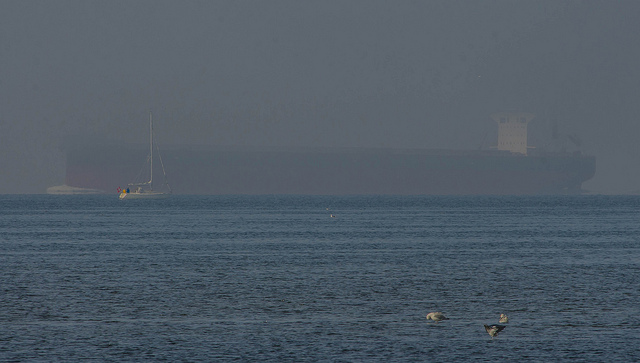boat: (118, 173, 175, 197)
bulk carrier: (65, 99, 600, 194)
